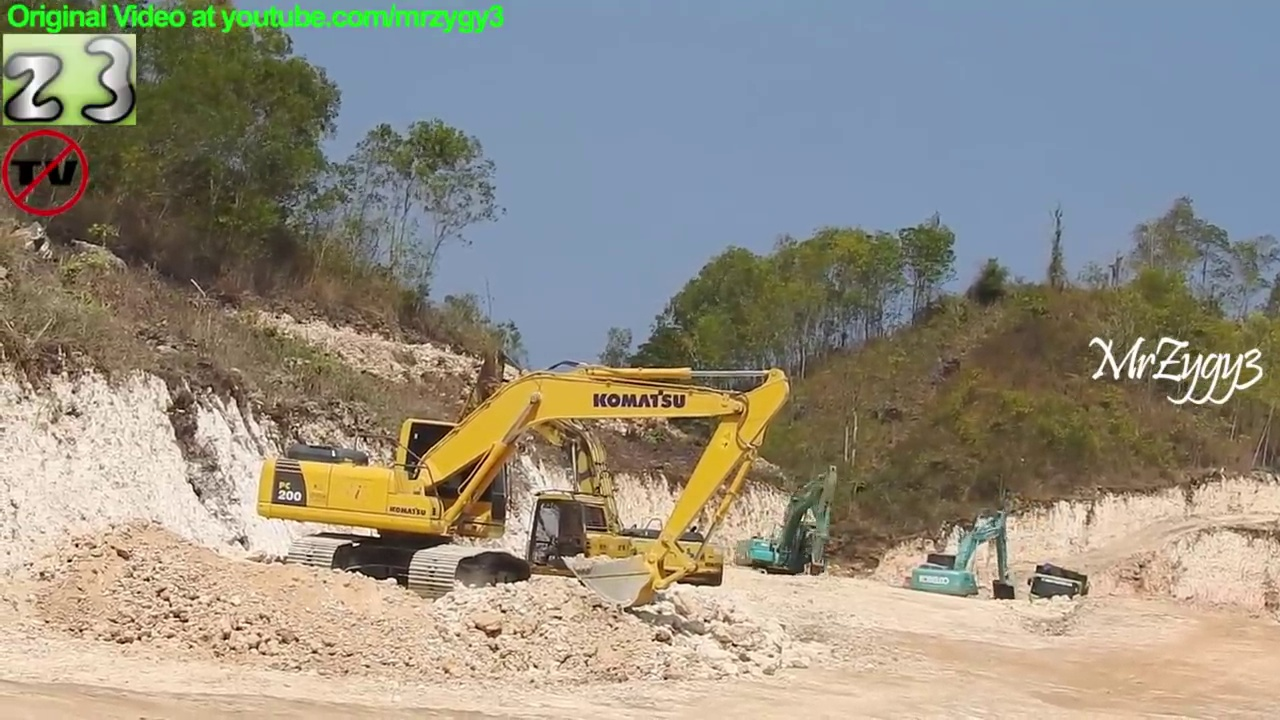excavator: (250, 355, 798, 619), (409, 354, 731, 607), (736, 459, 843, 589), (905, 505, 1017, 621)
truck: (1023, 559, 1095, 631)
